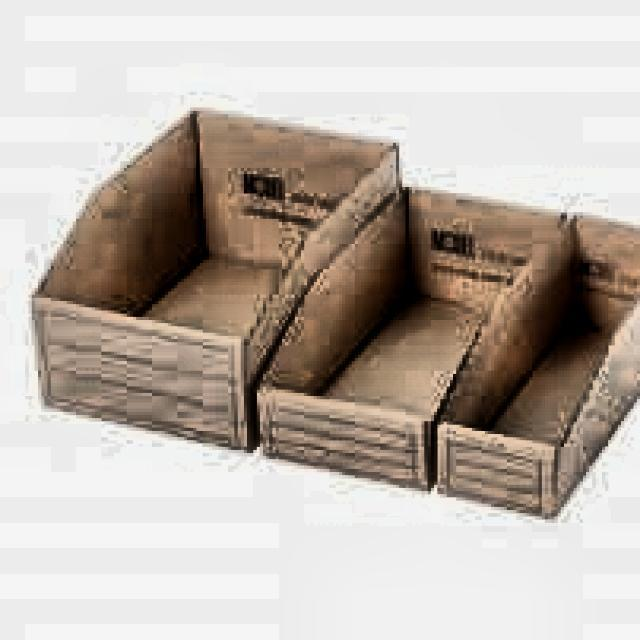cardboard: (28, 104, 640, 519)
